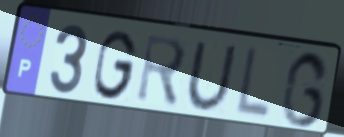3: (47, 22, 89, 96)
G: (279, 49, 332, 130), (91, 28, 140, 102)
L: (232, 44, 274, 123)
R: (134, 31, 189, 111)
U: (184, 39, 239, 114)
